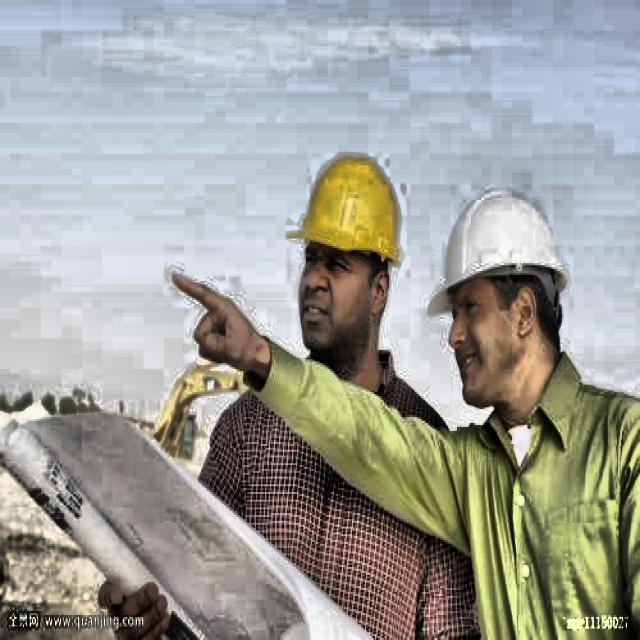helmet: (426, 160, 585, 438), (280, 127, 412, 371)
